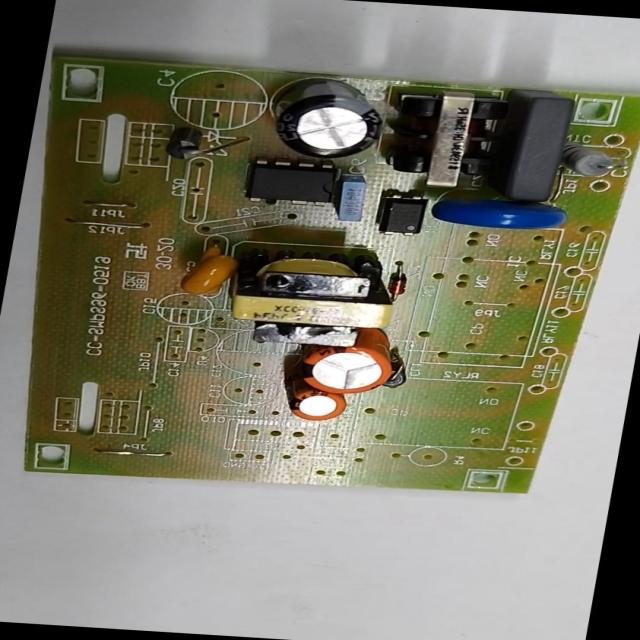Cap1: (298, 342, 394, 394)
Cap2: (286, 389, 348, 421)
Cap3: (280, 75, 388, 159)
MOSFET: (244, 158, 336, 208)
Mov: (432, 200, 571, 233)
Resistor: (562, 142, 624, 177)
Transformer: (224, 244, 400, 348), (389, 89, 507, 185)
